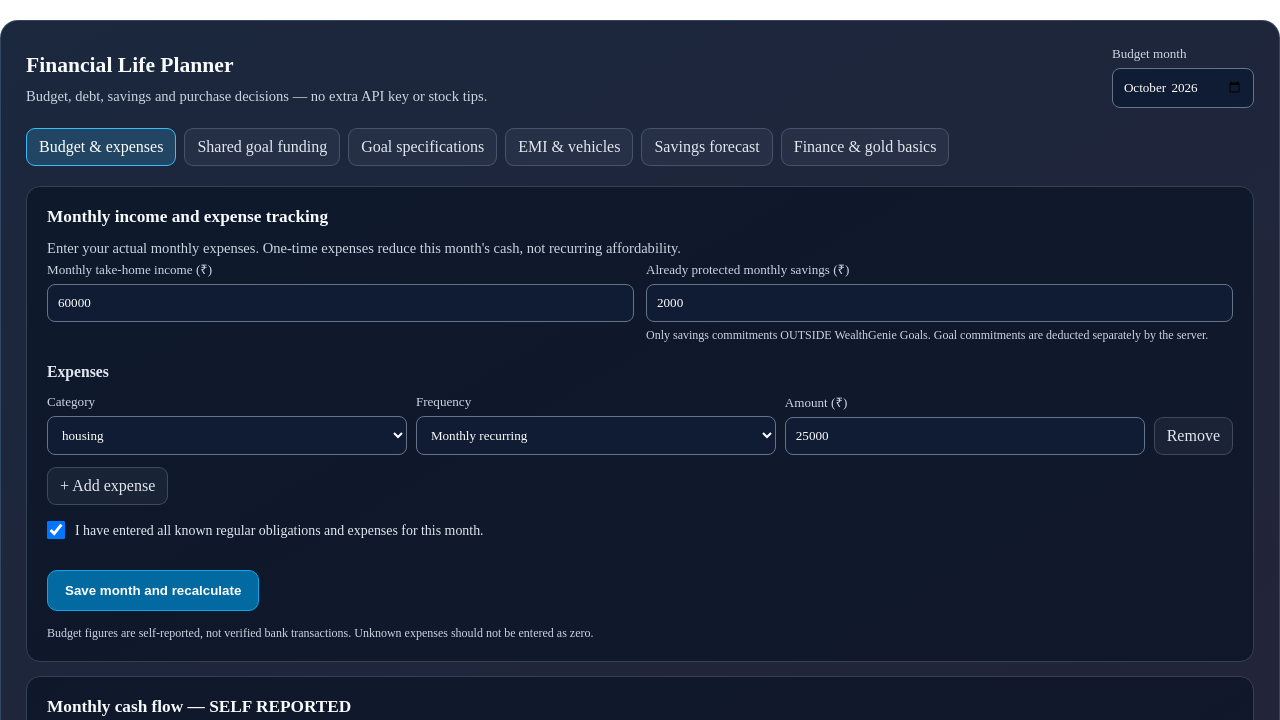
Test case: Goal financial workspace — keyless budget and purchase flows › does not claim live vehicle prices and reveals user-supplied loan form
The image size is (1280, 720).
Expected: the heading "Monthly income and expense tracking" is shown, x1=47 y1=207 x2=328 y2=226
Step 1. Click the button "EMI & vehicles" → point(569, 147), box x1=505 y1=128 x2=634 y2=166
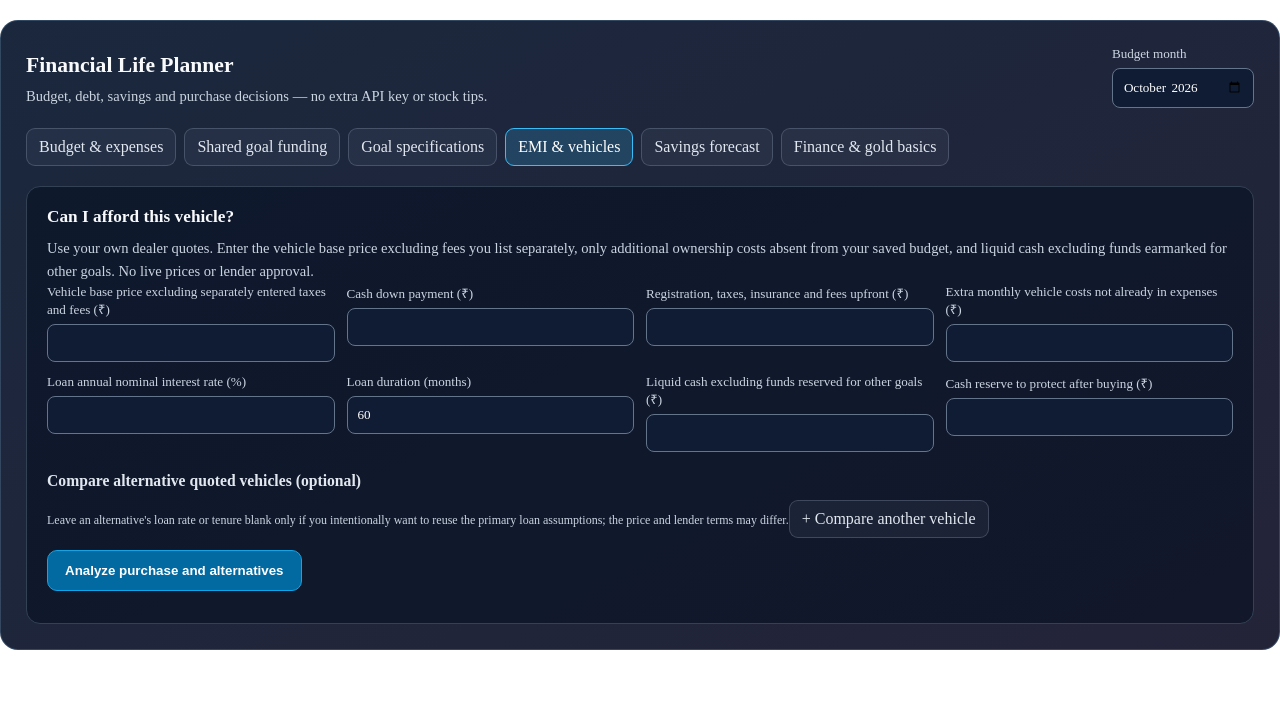
Now the heading "Can I afford this vehicle?" is shown, box x1=47 y1=207 x2=234 y2=226
Now the text "Use your own dealer quotes" is shown, box x1=47 y1=240 x2=1227 y2=279
